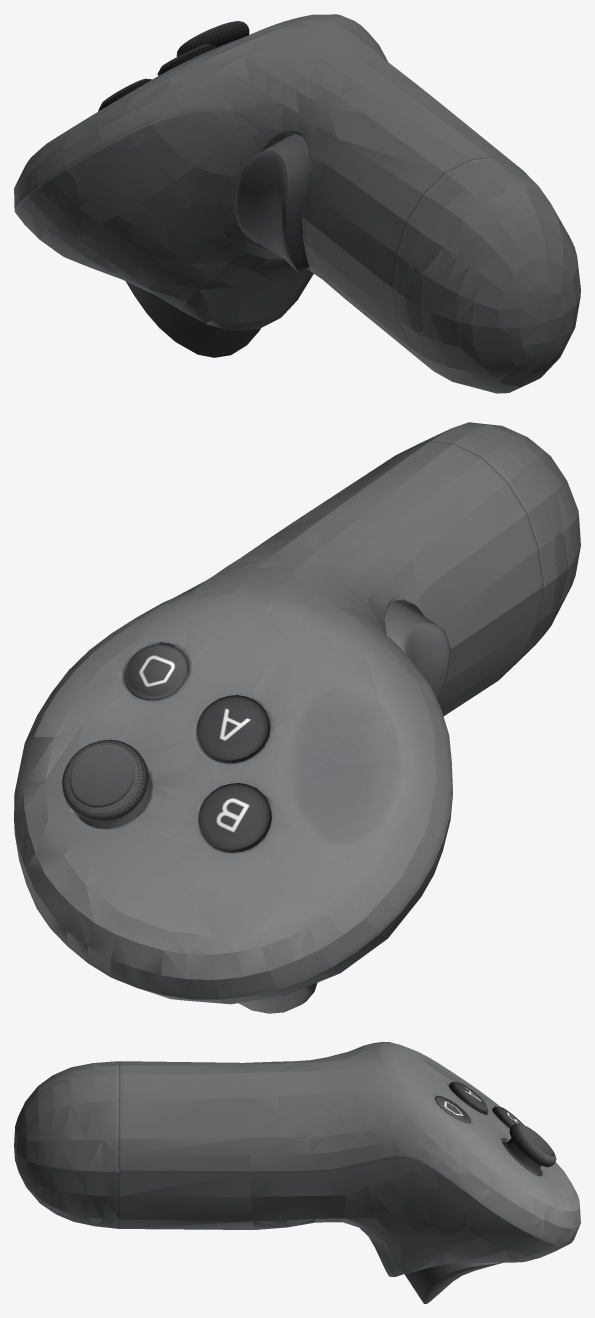
The model's file is galaxy_xr_controller_right.obj.
3 views of the same model, one above another, from view 1: azimuth 30°, elevation 25°; view 2: azimuth 150°, elevation 25°; view 3: azimuth 270°, elevation 25° (orthographic). The views are drawn at different scales.
Size of the model in its own units: 0.0654 by 0.0623 by 0.1282.
1 material, 1 textured.
